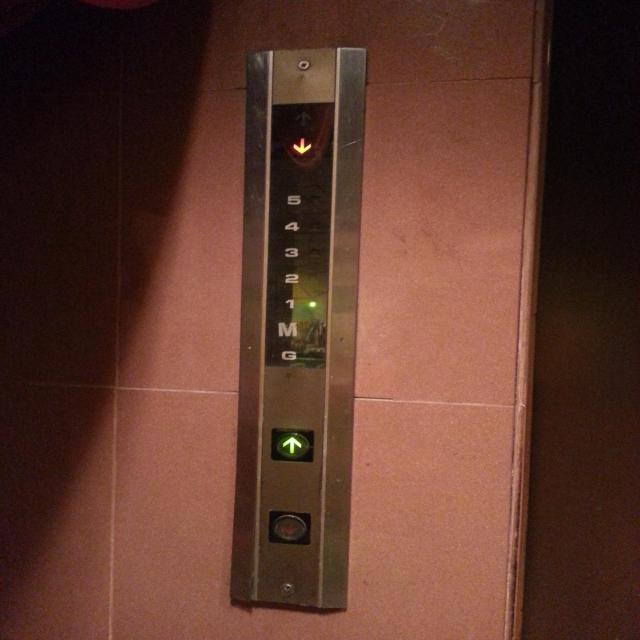down: (266, 507, 312, 547)
led: (262, 98, 337, 369)
up: (268, 424, 316, 466)
